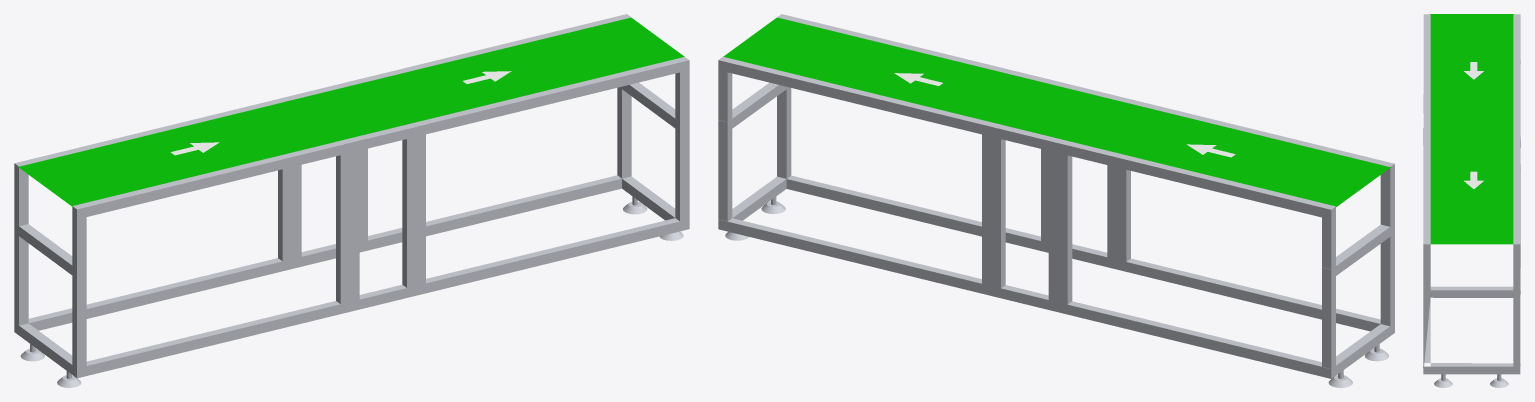
Rendered from conveyor.glb.
The picture shows the model from 3 angles, left to right: view 1: azimuth 30°, elevation 25°; view 2: azimuth 150°, elevation 25°; view 3: azimuth 270°, elevation 25°; orthographic projection. The views are drawn at different scales.
Visible parts, largest first — view 1: 몸통, 초록색판; view 2: 몸통, 초록색판; view 3: 초록색판, 몸통, 다리.001, 덮개, 덮개.001, Plane.001, Plane.
Part boxes in pixels (x1,y1,x2,y2): 몸통: (14,14,689,378); 초록색판: (17,17,684,208); 몸통: (718,14,1394,378); 초록색판: (723,17,1390,207); 초록색판: (1430,14,1514,244); 몸통: (1423,14,1520,374); 다리.001: (1434,374,1508,387); 덮개: (1513,113,1520,145); 덮개.001: (1423,113,1430,145); Plane.001: (1464,171,1483,188); Plane: (1464,62,1483,79).
Size of the model in its own units: 263 by 74.21 by 46.34.
